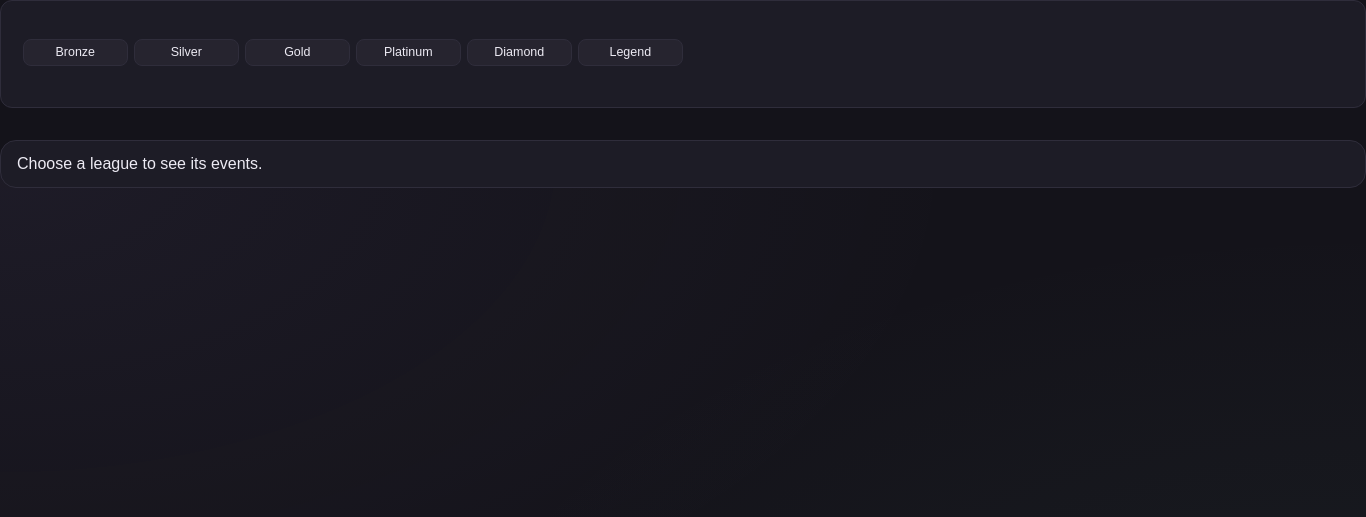
Test: EventsReferenceTable › Bloc60 review: shows the English tier text to a non-fr visitor, French to a fr visitor
Step 1. Click the button "Bronze" → click(75, 52), box x1=23 y1=39 x2=128 y2=66
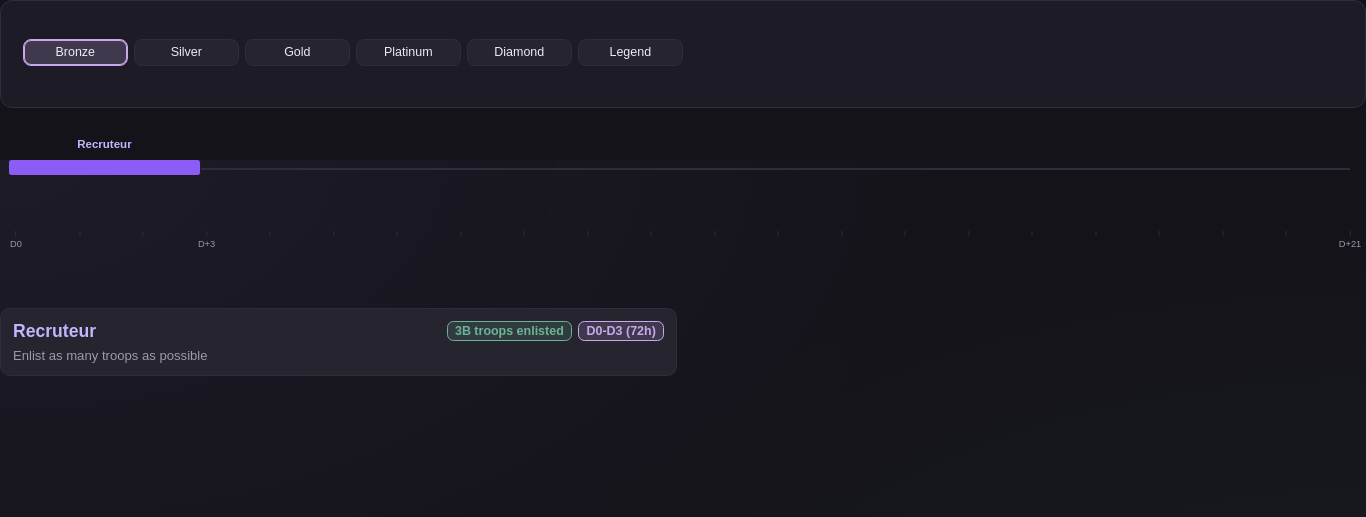
Step 2. Click the text "Recruteur" in the row of "3B troops enlisted" → click(55, 331), box x1=13 y1=321 x2=96 y2=342
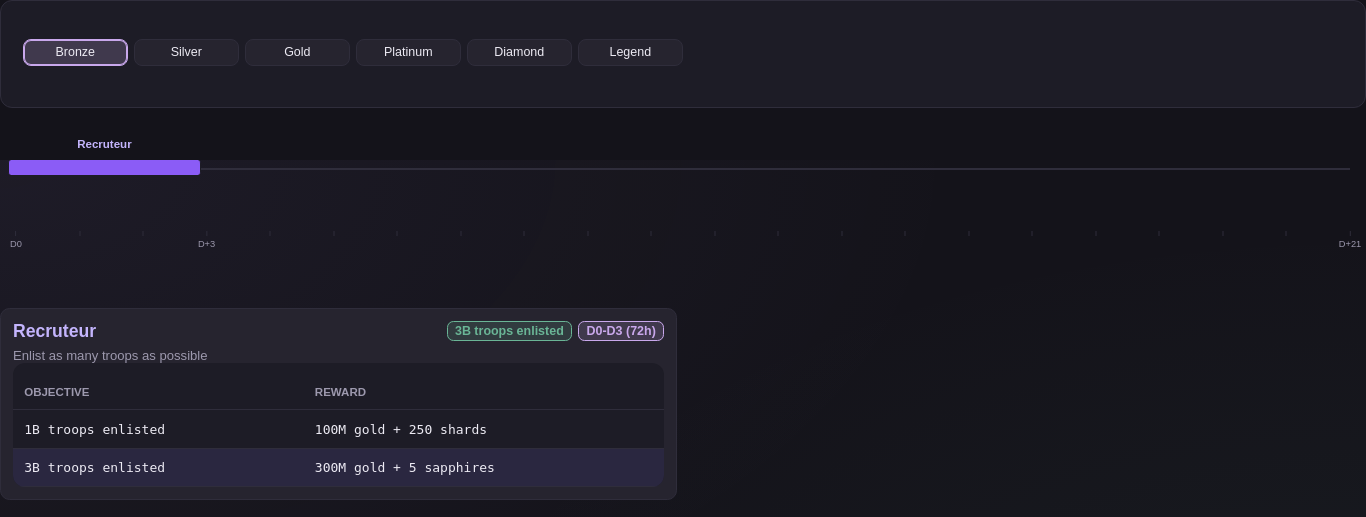
Expected: the text "1B troops enlisted" is shown, x1=13 y1=410 x2=304 y2=448
Expected: the text "100M gold + 250 shards" is shown, x1=304 y1=410 x2=664 y2=448
